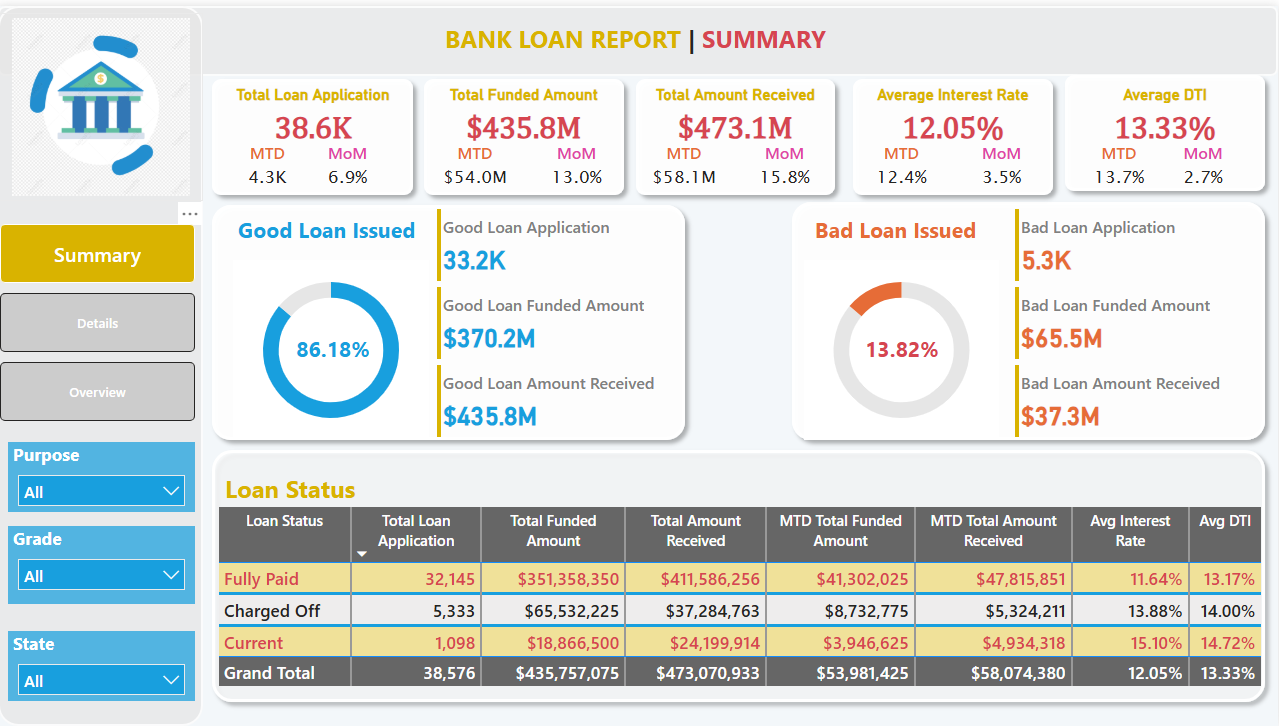

The page's visual inventory and layout, read from the dashboard file:
{"tool":"powerbi","page":{"name":"Summary","canvas":[1280,720],"ordinal":0},"visuals":[{"type":"shape","box":[0,0,1280.4,70],"z":0},{"type":"shape","box":[0,0,204.9,719.7],"z":1000},{"type":"shape","box":[205.3,189.8,490.8,253.6],"z":2000},{"type":"shape","box":[784.9,187.2,490.8,256.2],"z":3000},{"type":"shape","box":[205.3,434.7,1070.4,270],"z":4000},{"type":"textbox","box":[442.2,11.1,408.8,46.1],"z":5000},{"type":"shape","box":[205.3,63.8,218.2,133.7],"z":6000},{"type":"shape","box":[416.6,63.8,218.2,133.7],"z":7000},{"type":"shape","box":[628.8,63.8,217.4,133.7],"z":8000},{"type":"shape","box":[846.1,63.8,218.2,133.7],"z":9000},{"type":"shape","box":[1058.3,60.4,217.4,133.7],"z":10000},{"type":"card","title":"Total Loan Application","fields":{"Values":["All Measure.Total Loan Application"]},"box":[222.5,79.4,184.6,65.6],"z":11000},{"type":"card","title":"Total Funded Amount","fields":{"Values":["All Measure.Total Funded Amount"]},"box":[433.9,79.4,184.6,65.6],"z":12000},{"type":"card","title":"Total Amount Received","fields":{"Values":["All Measure.Total Amount Received"]},"box":[645.2,79.4,184.6,65.6],"z":13000},{"type":"card","title":"Average Interest Rate","fields":{"Values":["All Measure.Avg Interest Rate"]},"box":[863.4,79.4,183.7,65.6],"z":14000},{"type":"card","title":"Average DTI","fields":{"Values":["All Measure.Avt DTI"]},"box":[1074.7,79.4,184.6,65.6],"z":15000},{"type":"card","title":"MTD","fields":{"Values":["All Measure.MTD Loan Application"]},"box":[235.5,136.3,68.1,50.9],"z":16000},{"type":"card","title":"MoM","fields":{"Values":["All Measure.MoM Loan Application"]},"box":[314.8,136.3,69,50.9],"z":17000},{"type":"card","title":"MTD","fields":{"Values":["All Measure.MTD Interest Rate"]},"box":[869.4,136.3,68.1,50.9],"z":18000},{"type":"card","title":"MoM","fields":{"Values":["All Measure.MoM Interest Rate"]},"box":[969.5,136.3,68.1,50.9],"z":19000},{"type":"card","title":"MTD","fields":{"Values":["All Measure.MTD Total Amount Received"]},"box":[646.9,136.3,77.6,50.9],"z":20000},{"type":"card","title":"MoM","fields":{"Values":["All Measure.MoM Amount Received"]},"box":[752.1,136.3,69,50.9],"z":21000},{"type":"card","title":"MTD","fields":{"Values":["All Measure.MTD Total Funded Amount"]},"box":[433.9,136.3,86.3,50.9],"z":22000},{"type":"card","title":"MoM","fields":{"Values":["All Measure.MoM Funded Amount"]},"box":[539.1,136.3,78.5,50.9],"z":23000},{"type":"card","title":"MTD","fields":{"Values":["All Measure.MTD DTI"]},"box":[1086.8,136.3,68.1,50.9],"z":24000},{"type":"card","title":"MoM","fields":{"Values":["All Measure.MoM DTI"]},"box":[1171.3,136.3,68.1,50.9],"z":25000},{"type":"donutChart","fields":{"Category":["financialloandata.Good Vs Bad Loan"],"Y":["All Measure.Total Loan Application"]},"box":[235.4,254.5,195.6,179.7],"z":26000},{"type":"donutChart","fields":{"Category":["financialloandata.Good Vs Bad Loan"],"Y":["All Measure.Total Loan Application"]},"box":[805.6,254.4,195.8,179.4],"z":27000},{"type":"card","title":"Average Interest Rate","fields":{"Values":["All Measure.Good Loan Percentage"]},"box":[291.1,322.9,87.5,42.9],"z":28000},{"type":"card","title":"Average Interest Rate","fields":{"Values":["All Measure.Bad Loan Percentage"]},"box":[859.9,322.6,88,43.1],"z":29000},{"type":"textbox","box":[235.4,203.6,213.1,50.9],"z":30000},{"type":"textbox","box":[811.6,203.6,184.6,50.9],"z":31000},{"type":"cardVisual","fields":{"Data":["All Measure.Good Loan Application","All Measure.Good Loan Funded Amount","All Measure.Good Loan Amount Received"]},"box":[433.9,198.4,235.5,238.1],"z":32000},{"type":"cardVisual","fields":{"Data":["All Measure.Bad Loan Application","All Measure.Bad Loan Funded Amount","All Measure.Bad Loan Amount Received"]},"box":[1011.8,198.4,235.5,238.1],"z":33000},{"type":"tableEx","fields":{"Values":["financialloandata.loan_status","All Measure.Total Loan Application","All Measure.Total Funded Amount","All Measure.Total Amount Received","All Measure.MTD Total Funded Amount","All Measure.MTD Total Amount Received","All Measure.Avg Interest Rate","All Measure.Avt DTI"]},"box":[214.7,496.3,1060.9,202],"z":34000},{"type":"textbox","box":[221.7,461.5,175.1,51.8],"z":35000},{"type":"slicer","title":"Grade","fields":{"Values":["financialloandata.grade"]},"box":[9.5,520.1,187.7,77.9],"z":36000},{"type":"slicer","title":"State","fields":{"Values":["financialloandata.address_state"]},"box":[9.5,625.1,187.7,70],"z":37000},{"type":"slicer","title":"Purpose","fields":{"Values":["financialloandata.purpose"]},"box":[9.5,435.8,187.7,70],"z":38000},{"type":"image","box":[0,6.6,204.9,188.5],"z":39000},{"type":"pageNavigator","box":[1.6,218,195.1,196.7],"z":40000}]}

Visuals, with their boxes in screenshot pixels (x1, y1, x2, y2), scaled from the page's 1280x720 canvas onto the 1279x726 screenshot:
shape: Rect(0, 0, 1278, 71)
shape: Rect(0, 0, 205, 725)
shape: Rect(205, 191, 696, 447)
shape: Rect(784, 189, 1275, 447)
shape: Rect(205, 438, 1275, 711)
textbox: Rect(442, 11, 850, 58)
shape: Rect(205, 64, 423, 199)
shape: Rect(416, 64, 634, 199)
shape: Rect(628, 64, 846, 199)
shape: Rect(845, 64, 1063, 199)
shape: Rect(1057, 61, 1275, 196)
"Total Loan Application" card: Rect(222, 80, 407, 146)
"Total Funded Amount" card: Rect(434, 80, 618, 146)
"Total Amount Received" card: Rect(645, 80, 829, 146)
"Average Interest Rate" card: Rect(863, 80, 1046, 146)
"Average DTI" card: Rect(1074, 80, 1258, 146)
"MTD" card: Rect(235, 137, 303, 189)
"MoM" card: Rect(315, 137, 384, 189)
"MTD" card: Rect(869, 137, 937, 189)
"MoM" card: Rect(969, 137, 1037, 189)
"MTD" card: Rect(646, 137, 724, 189)
"MoM" card: Rect(752, 137, 820, 189)
"MTD" card: Rect(434, 137, 520, 189)
"MoM" card: Rect(539, 137, 617, 189)
"MTD" card: Rect(1086, 137, 1154, 189)
"MoM" card: Rect(1170, 137, 1238, 189)
donutChart - financialloandata.Good Vs Bad Loan x All Measure.Total Loan Application: Rect(235, 257, 431, 438)
donutChart - financialloandata.Good Vs Bad Loan x All Measure.Total Loan Application: Rect(805, 257, 1001, 437)
"Average Interest Rate" card: Rect(291, 326, 378, 369)
"Average Interest Rate" card: Rect(859, 325, 947, 369)
textbox: Rect(235, 205, 448, 257)
textbox: Rect(811, 205, 995, 257)
cardVisual - All Measure.Good Loan Application x All Measure.Good Loan Funded Amount: Rect(434, 200, 669, 440)
cardVisual - All Measure.Bad Loan Application x All Measure.Bad Loan Funded Amount: Rect(1011, 200, 1246, 440)
tableEx - financialloandata.loan_status x All Measure.Total Loan Application: Rect(215, 500, 1275, 704)
textbox: Rect(222, 465, 396, 518)
"Grade" slicer: Rect(9, 524, 197, 603)
"State" slicer: Rect(9, 630, 197, 701)
"Purpose" slicer: Rect(9, 439, 197, 510)
image: Rect(0, 7, 205, 197)
pageNavigator: Rect(2, 220, 197, 418)
